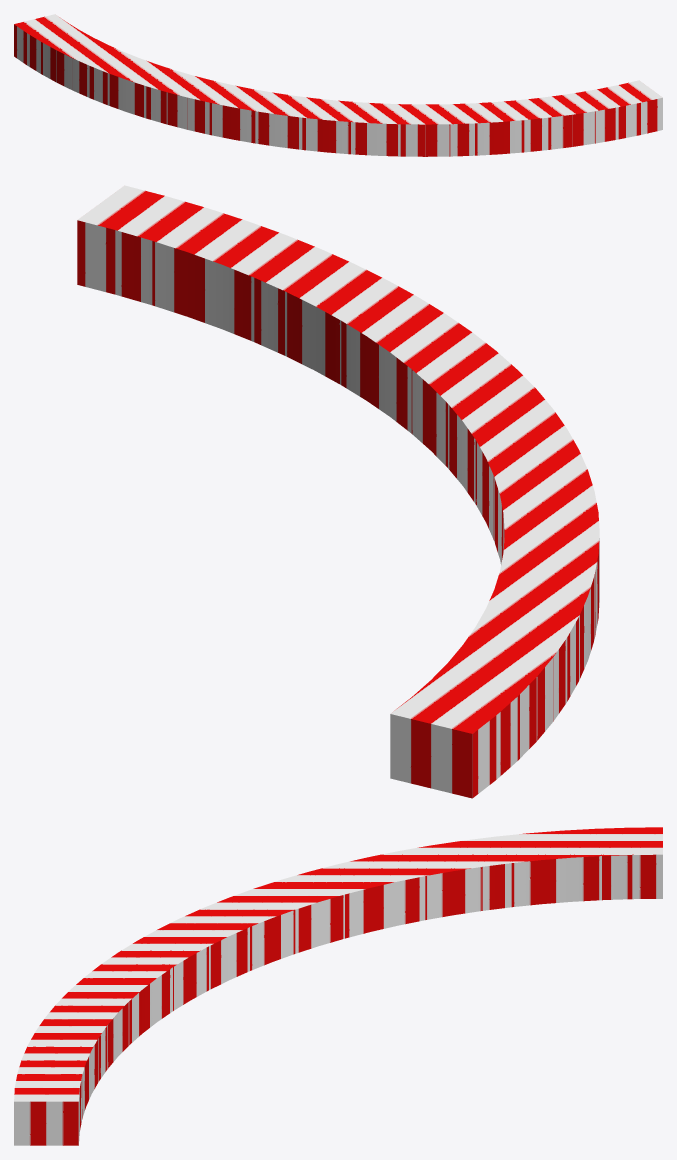
The model's file is TurnInner.obj.
3 renders of one model, top to bottom at view 1: azimuth 30°, elevation 25°; view 2: azimuth 150°, elevation 25°; view 3: azimuth 270°, elevation 25°, orthographic. The views are drawn at different scales.
Parts seen in each view (by area): view 1: TurnInner; view 2: TurnInner; view 3: TurnInner.
Boxes of the visible parts, left/top/right/bottom form: TurnInner: left=14, top=14, right=662, bottom=156; TurnInner: left=77, top=185, right=599, bottom=798; TurnInner: left=14, top=827, right=662, bottom=1145.
Bounding box in the file's own units: 20 × 1.5 × 20.
Materials: 1 (1 with a texture image).
